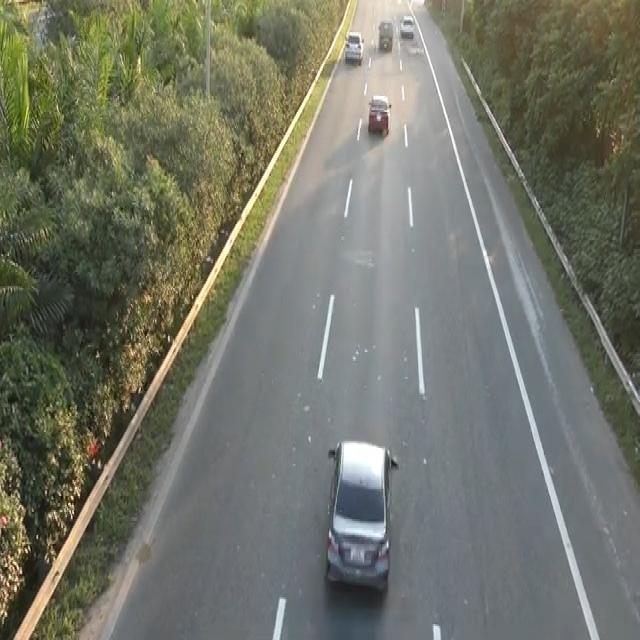bus: (322, 436, 401, 598), (367, 92, 391, 137)
car: (343, 28, 364, 64)
minivan: (377, 18, 393, 50)
